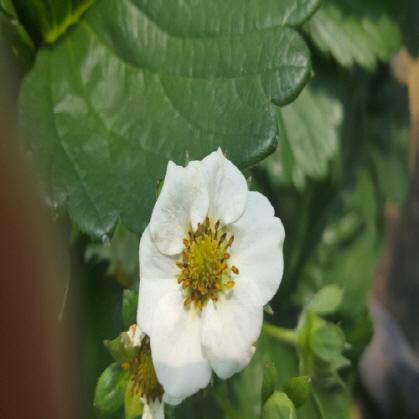Blossom Blight: (173, 212, 241, 314)
